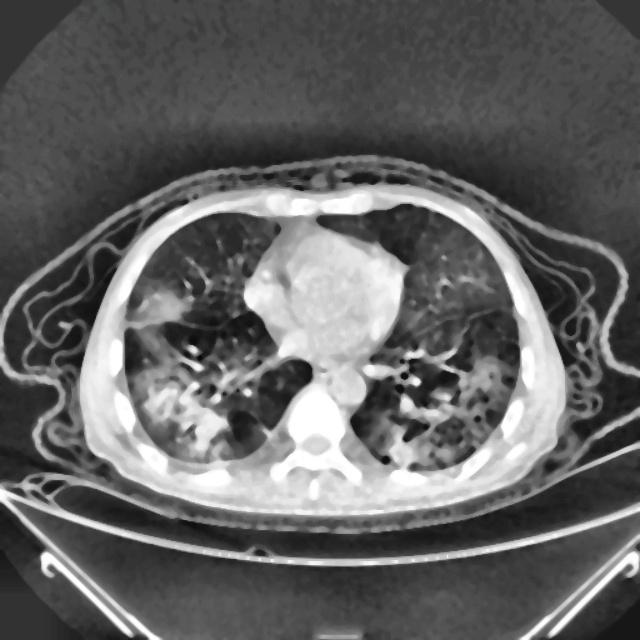covid: (77, 180, 568, 523)
